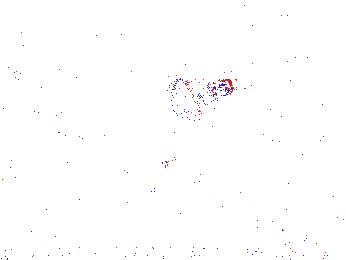flame jellyfish: (162, 74, 235, 126), (154, 170, 214, 228), (116, 152, 176, 207)
